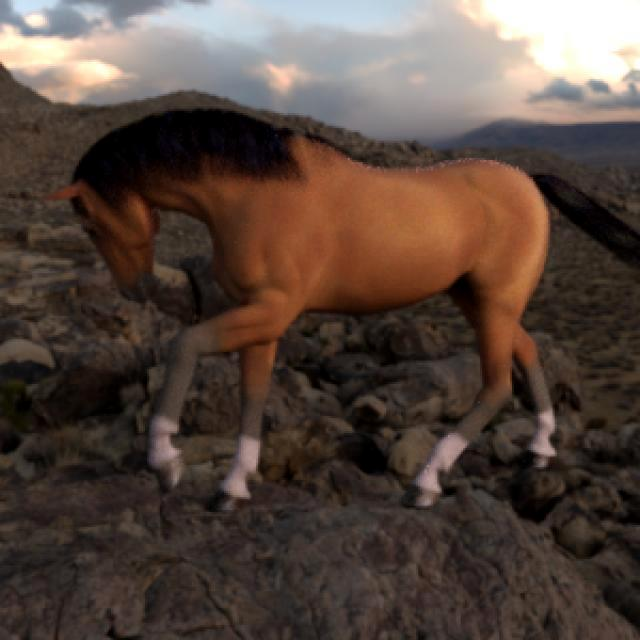horse: (50, 111, 640, 509)
